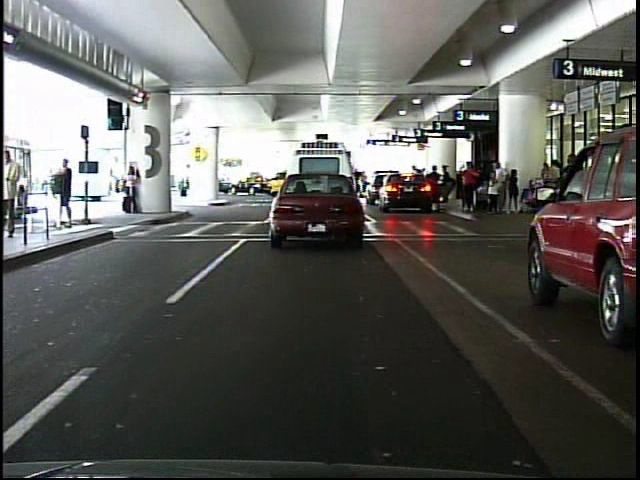person: (4, 149, 34, 244), (56, 153, 80, 232), (121, 161, 143, 215), (171, 160, 197, 202), (460, 161, 479, 216)
